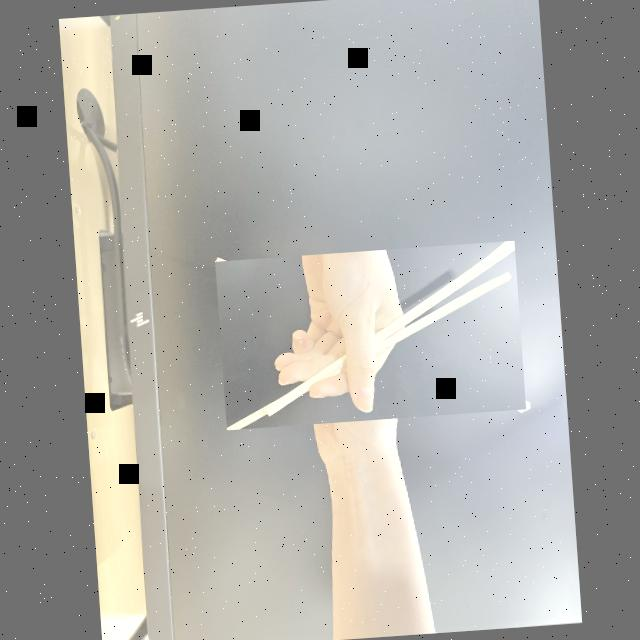stick: (215, 240, 525, 429)
